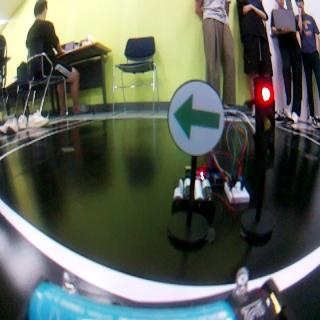left: (170, 85, 223, 153)
red: (253, 76, 275, 245)
